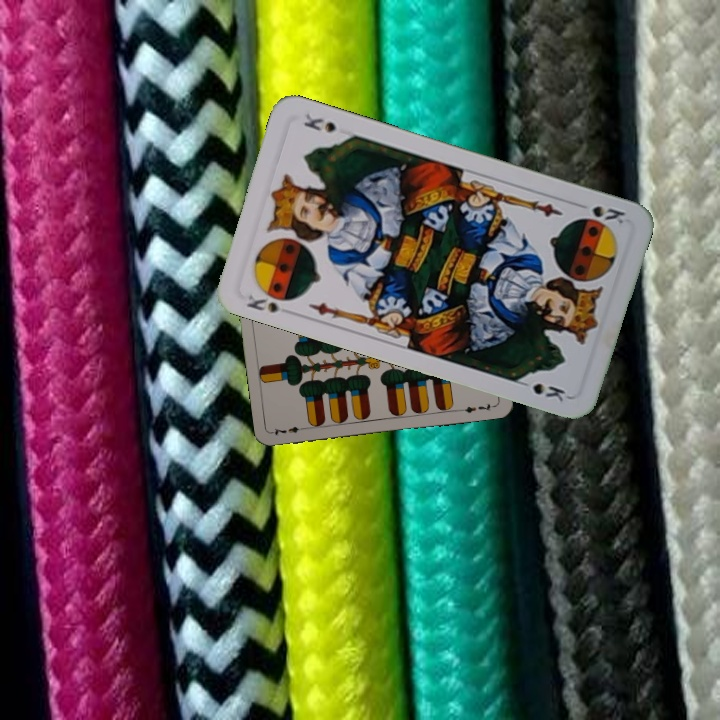E7: (269, 422, 310, 437)
SK: (242, 288, 282, 316), (588, 201, 628, 227)
